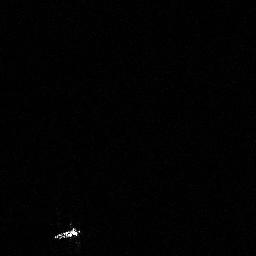ship: (51, 224, 82, 241)
